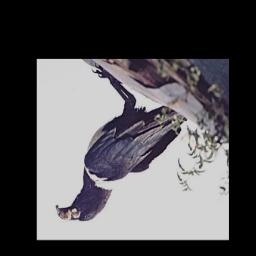Crow: (55, 65, 192, 223)
